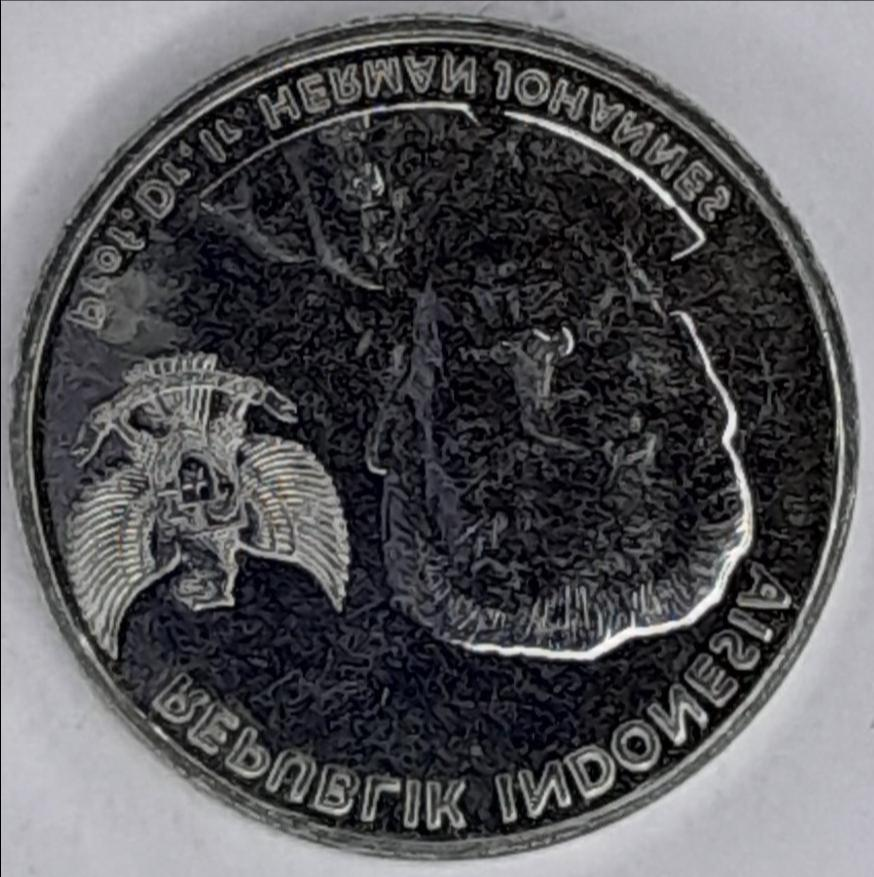coin_100_e2016: (7, 7, 865, 860)
